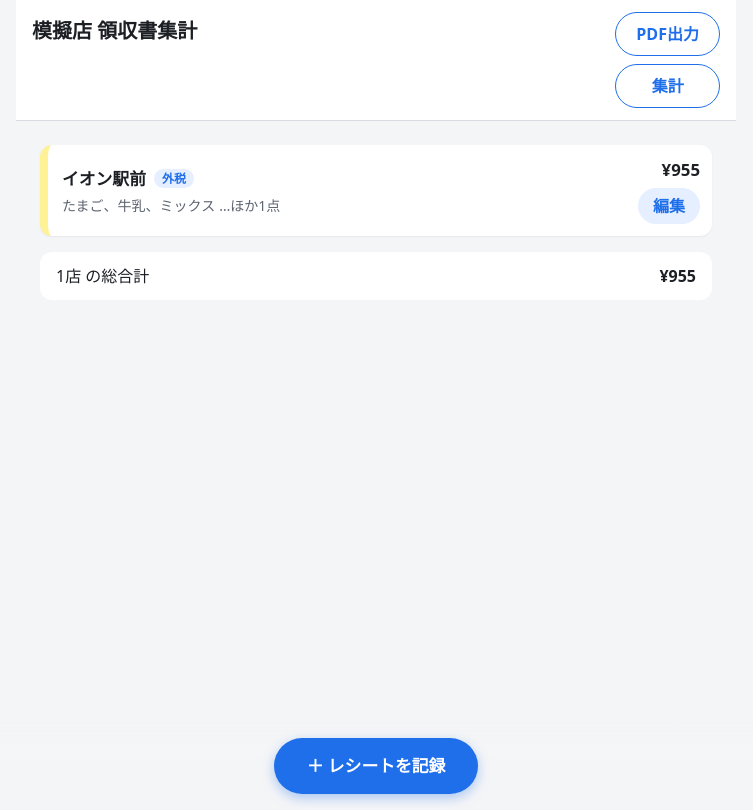
Test case: 編集からレシートを削除できる
The width and height of the screenshot is (753, 810).
Click the button with aria-label "イオン駅前を編集". click: (669, 206)
box: [638,188,700,224]
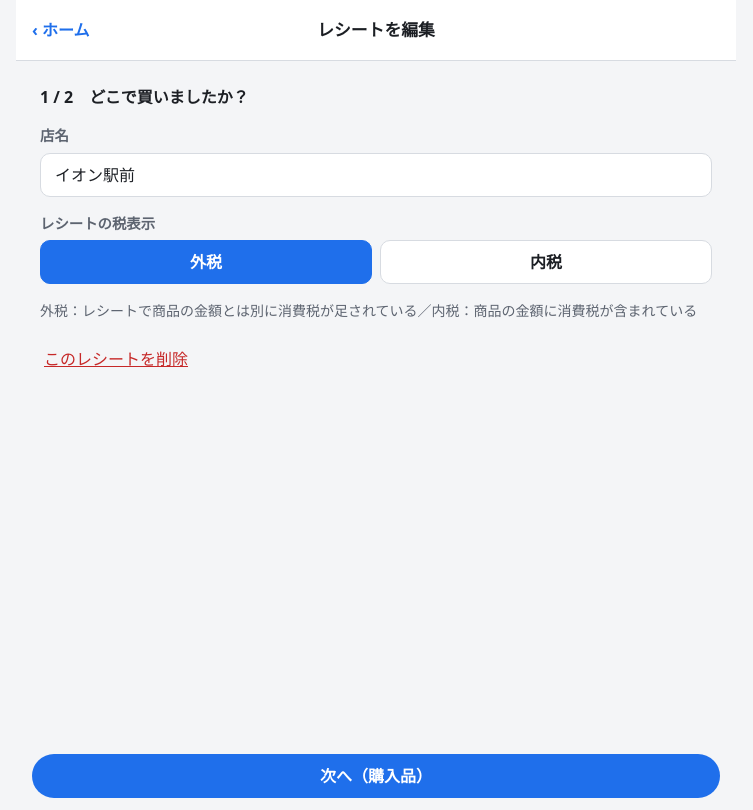
Click the button "このレシートを削除". click: (116, 359)
box: [40,337,192,381]
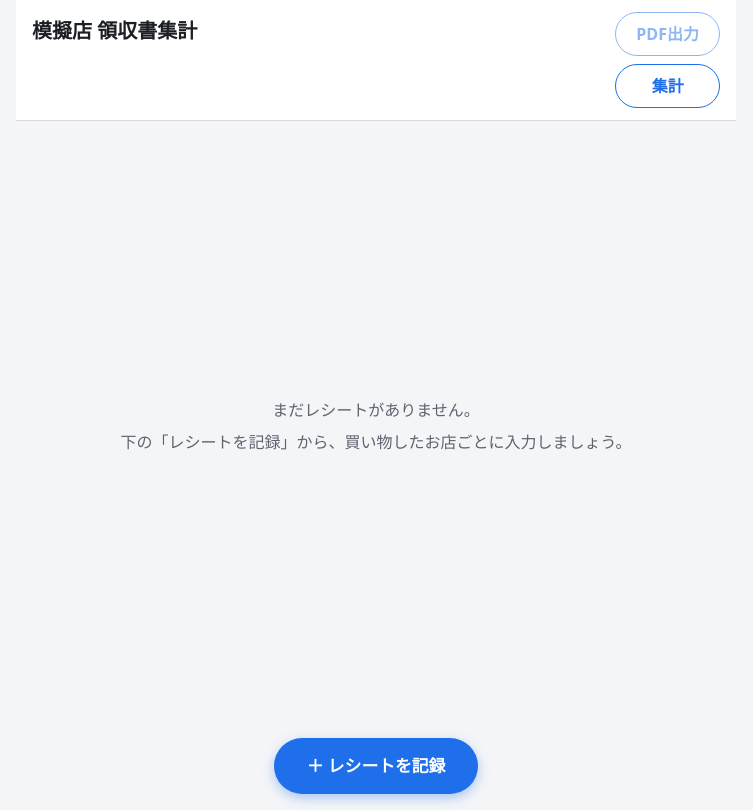
Now the text "まだレシートがありません。" is shown, box [272,398,480,420]
